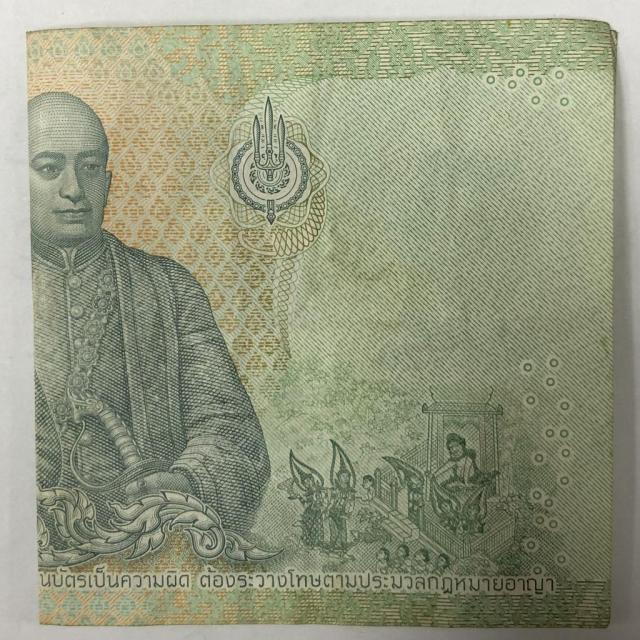THAI20: (28, 19, 616, 628)
